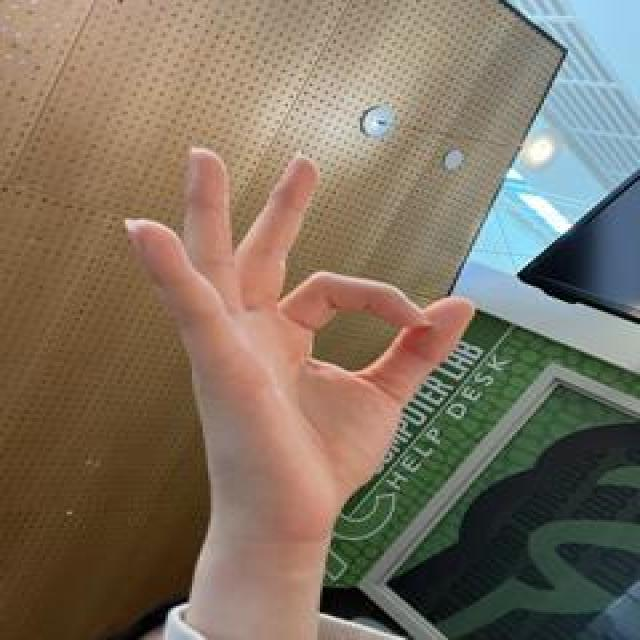F: (110, 143, 486, 521)
